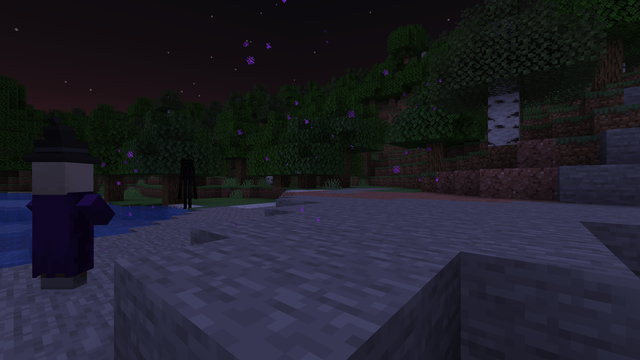endermens: (179, 157, 194, 208)
sorcieres: (34, 155, 94, 298)
